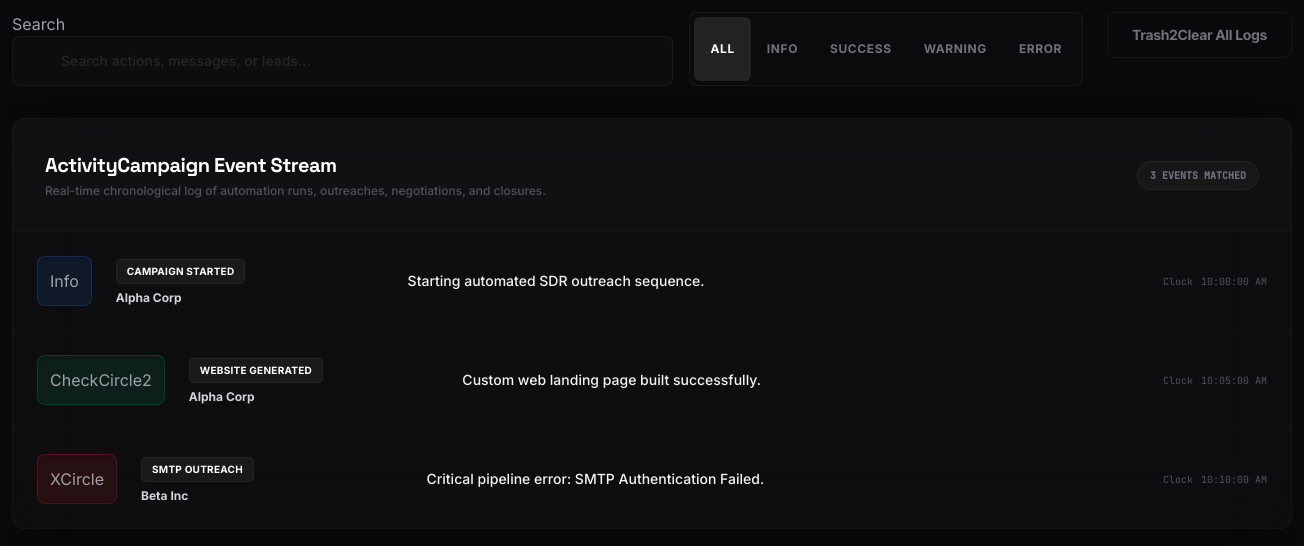
Test case: CampaignLogs › filters logs by status
The image size is (1304, 546).
Expected: the text "Starting automated SDR outreach sequence." is shown, [408, 272, 705, 289]
Expected: the text "Critical pipeline error: SMTP Authentication Failed." is shown, [426, 470, 764, 487]
Click the button "error": (1040, 49) [1003, 17, 1078, 81]
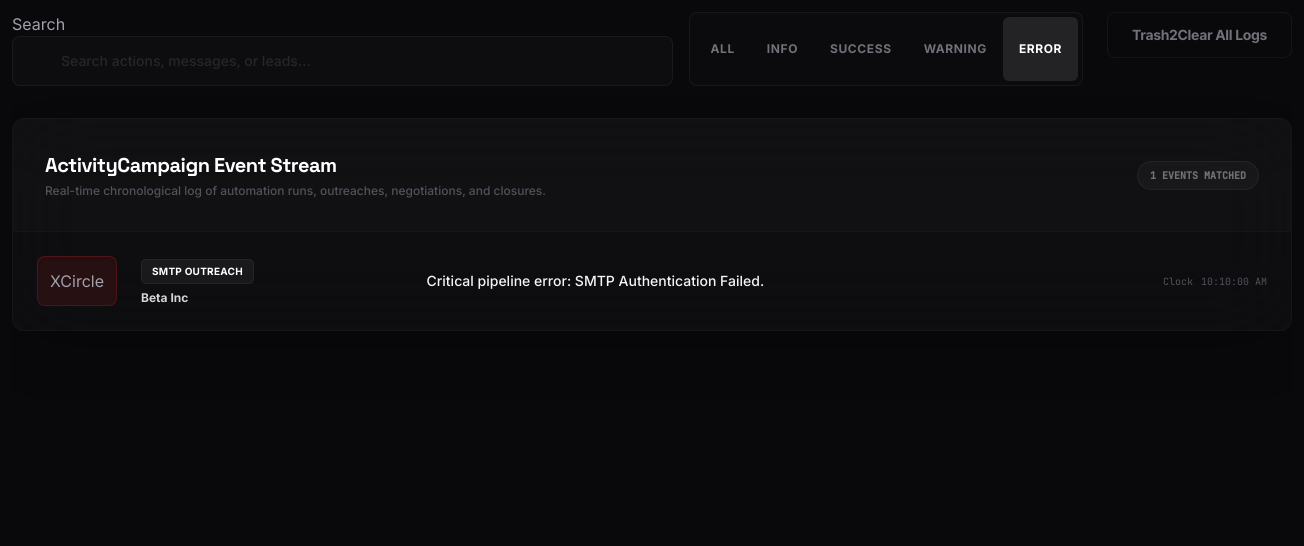
Expected: the text "Critical pipeline error: SMTP Authentication Failed." is shown, [426, 272, 764, 289]
Result: the text "Starting automated SDR outreach sequence." is gone
Click the button "all": (723, 49) [694, 17, 751, 81]
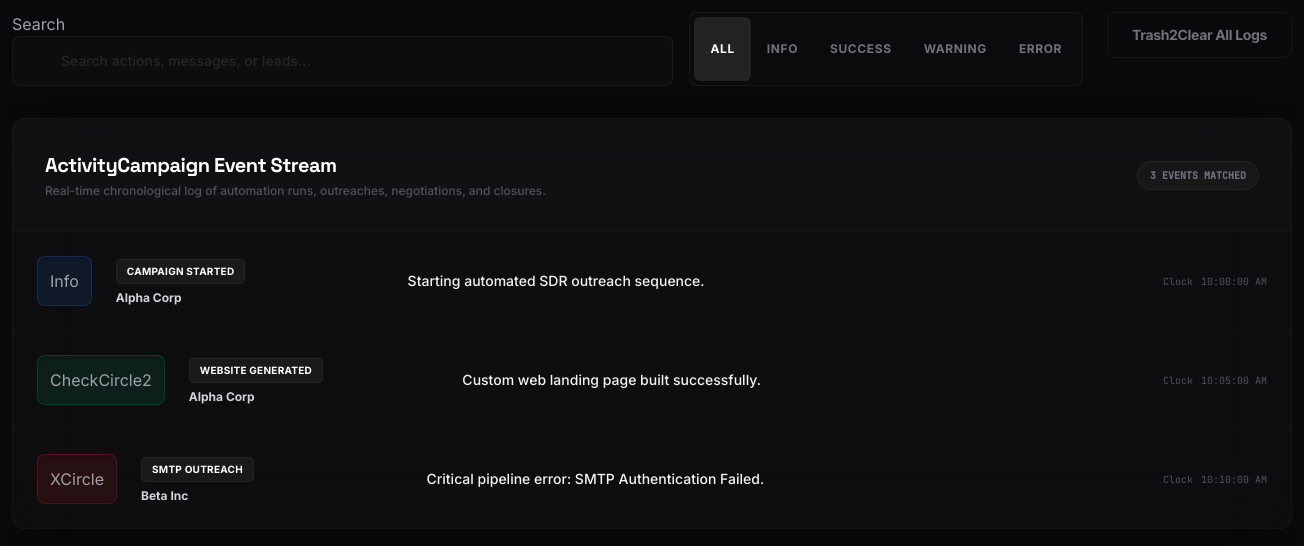
Result: the text "Starting automated SDR outreach sequence." is shown at [408, 272, 705, 289]
